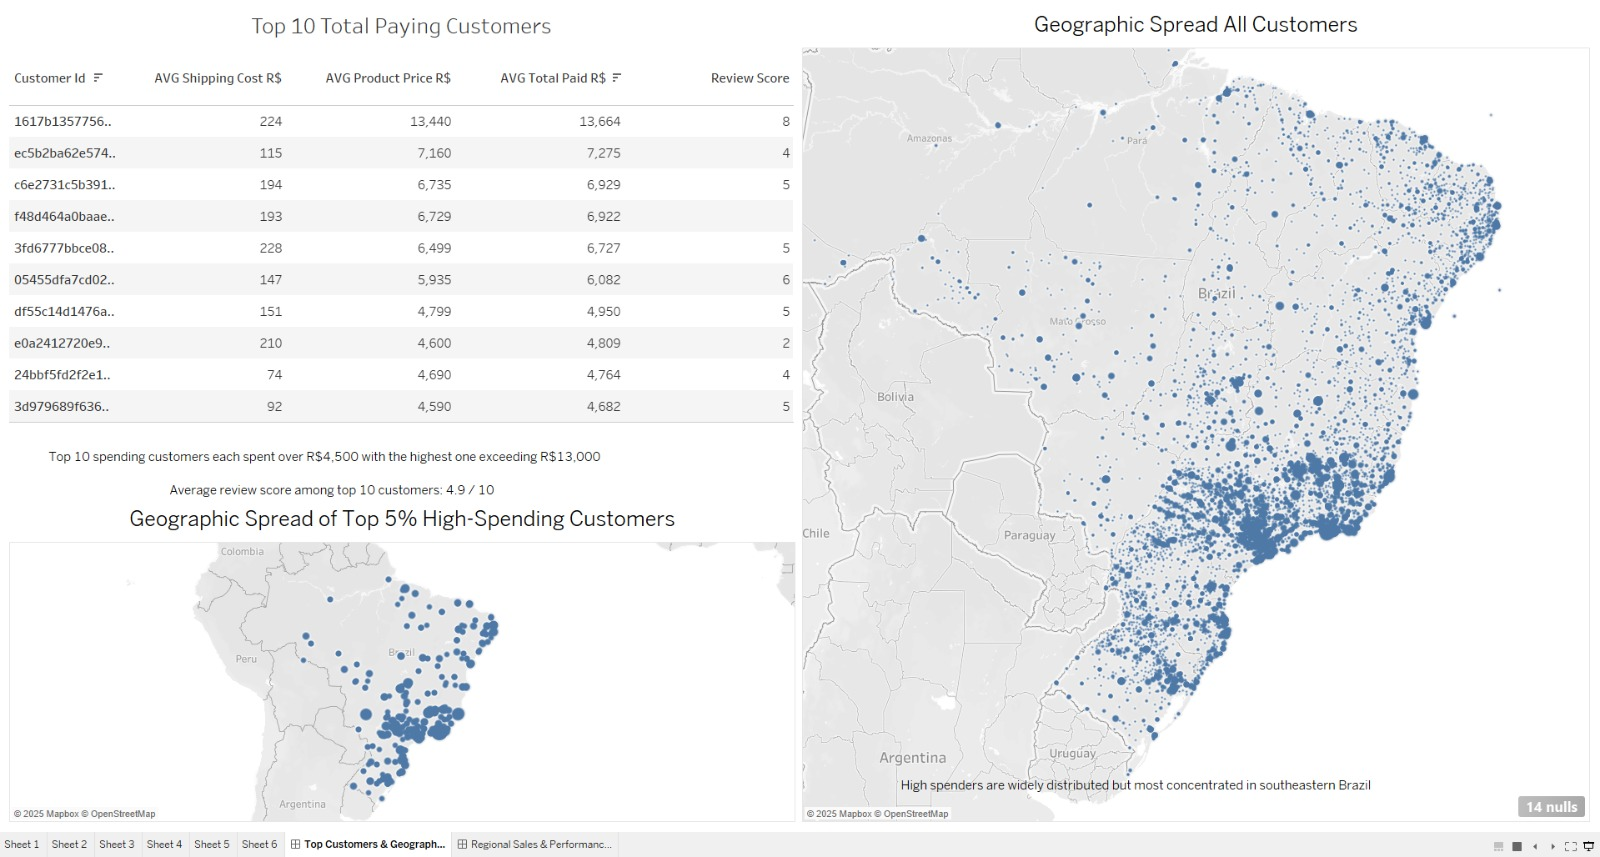

What the dashboard file says about the page in this screenshot:
{"tool":"tableau","page":{"name":"Top Customers & Geographic Insights","canvas":[1000,1000],"units":"permille","ordinal":1},"visuals":[{"type":"worksheet","title":"Sheet 1","mark":"Automatic","rows":["customer_id"],"box":[4.8,9.6,494.9,590.6]},{"type":"worksheet","title":"Sheet 3","mark":"Automatic","rows":["geolocation_lat"],"cols":["geolocation_lng"],"box":[499.7,9.6,495.6,980.8]},{"type":"text","box":[29.4,524.6,402.6,48]},{"type":"text","box":[104.9,571.4,237.9,36]},{"type":"worksheet","title":"Sheet 2","mark":"Automatic","rows":["geolocation_lat"],"cols":["geolocation_lng"],"box":[4.8,600.2,494.9,390.2]},{"type":"text","box":[561.4,910,370.9,67.2]}]}

Visuals, with their boxes on the dashboard's canvas, which has no fixed pixel size, in thousandths of its width and height (x1, y1, x2, y2). These are canvas units, not pixel positions in the 1600x857 screenshot, which may show the page scaled, cropped or inside an application window:
"Sheet 1" worksheet: locate(5, 10, 500, 600)
"Sheet 3" worksheet: locate(500, 10, 995, 990)
text: locate(29, 525, 432, 573)
text: locate(105, 571, 343, 607)
"Sheet 2" worksheet: locate(5, 600, 500, 990)
text: locate(561, 910, 932, 977)
